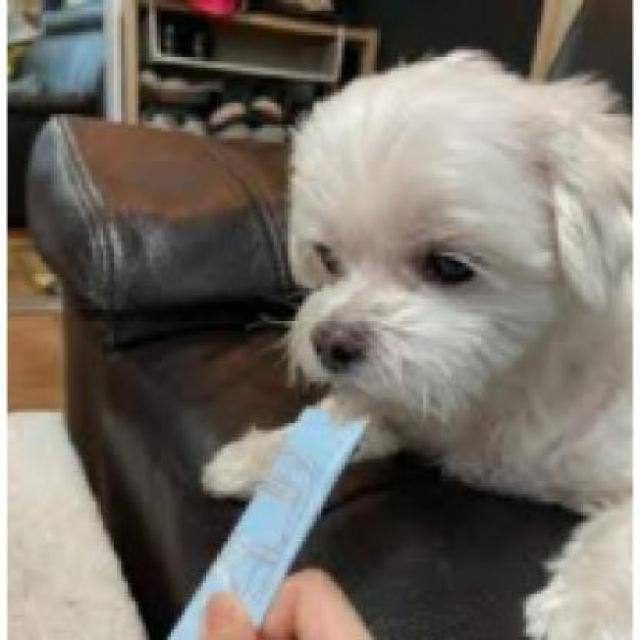Dog: (202, 41, 632, 638)
